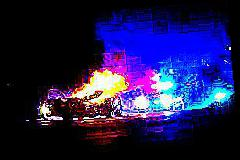fire: (68, 66, 130, 103)
